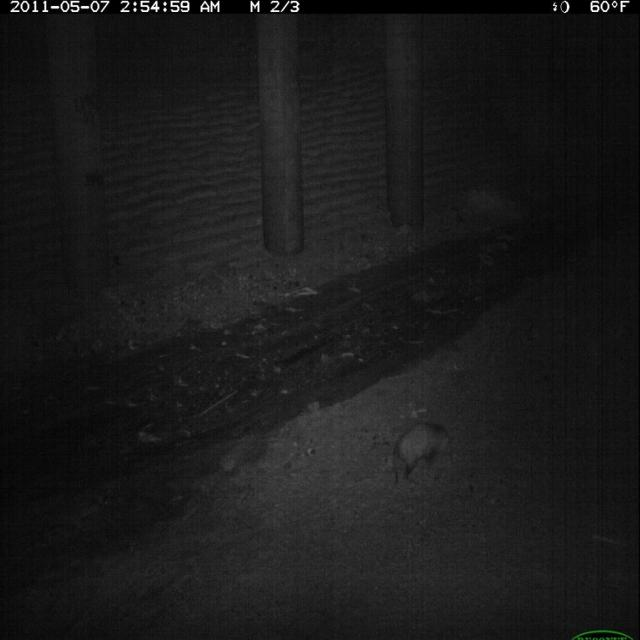opossum: (390, 418, 459, 492)
